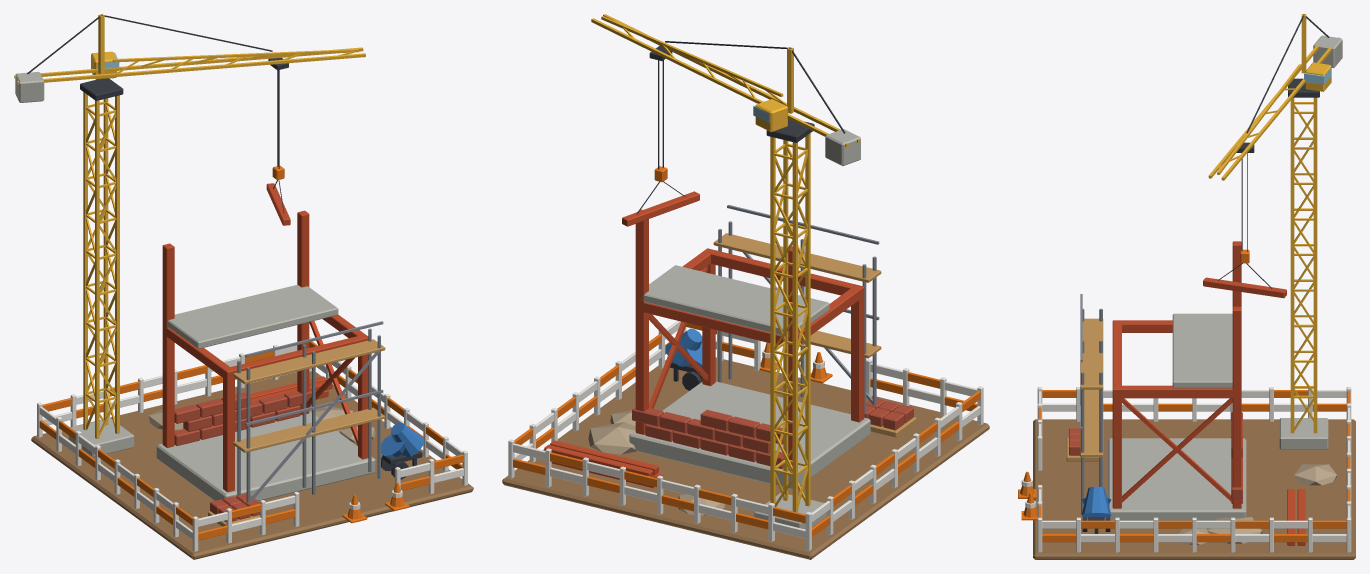
The model's file is site.glb.
3 views of the same model, side by side, from view 1: azimuth 30°, elevation 25°; view 2: azimuth 150°, elevation 25°; view 3: azimuth 270°, elevation 25° (orthographic). The views are drawn at different scales.
Parts seen in each view (by area): view 1: Construction_Site, Crane_Jib; view 2: Construction_Site, Crane_Jib; view 3: Construction_Site, Crane_Jib.
Part boxes in pixels (bbox=[...]): Construction_Site: bbox=[31, 78, 473, 559]; Crane_Jib: bbox=[14, 14, 365, 225]; Construction_Site: bbox=[502, 119, 989, 559]; Crane_Jib: bbox=[591, 14, 860, 226]; Construction_Site: bbox=[1018, 78, 1355, 559]; Crane_Jib: bbox=[1203, 14, 1342, 298].
Size of the model in its own units: 3.08 by 4.2 by 2.93.
